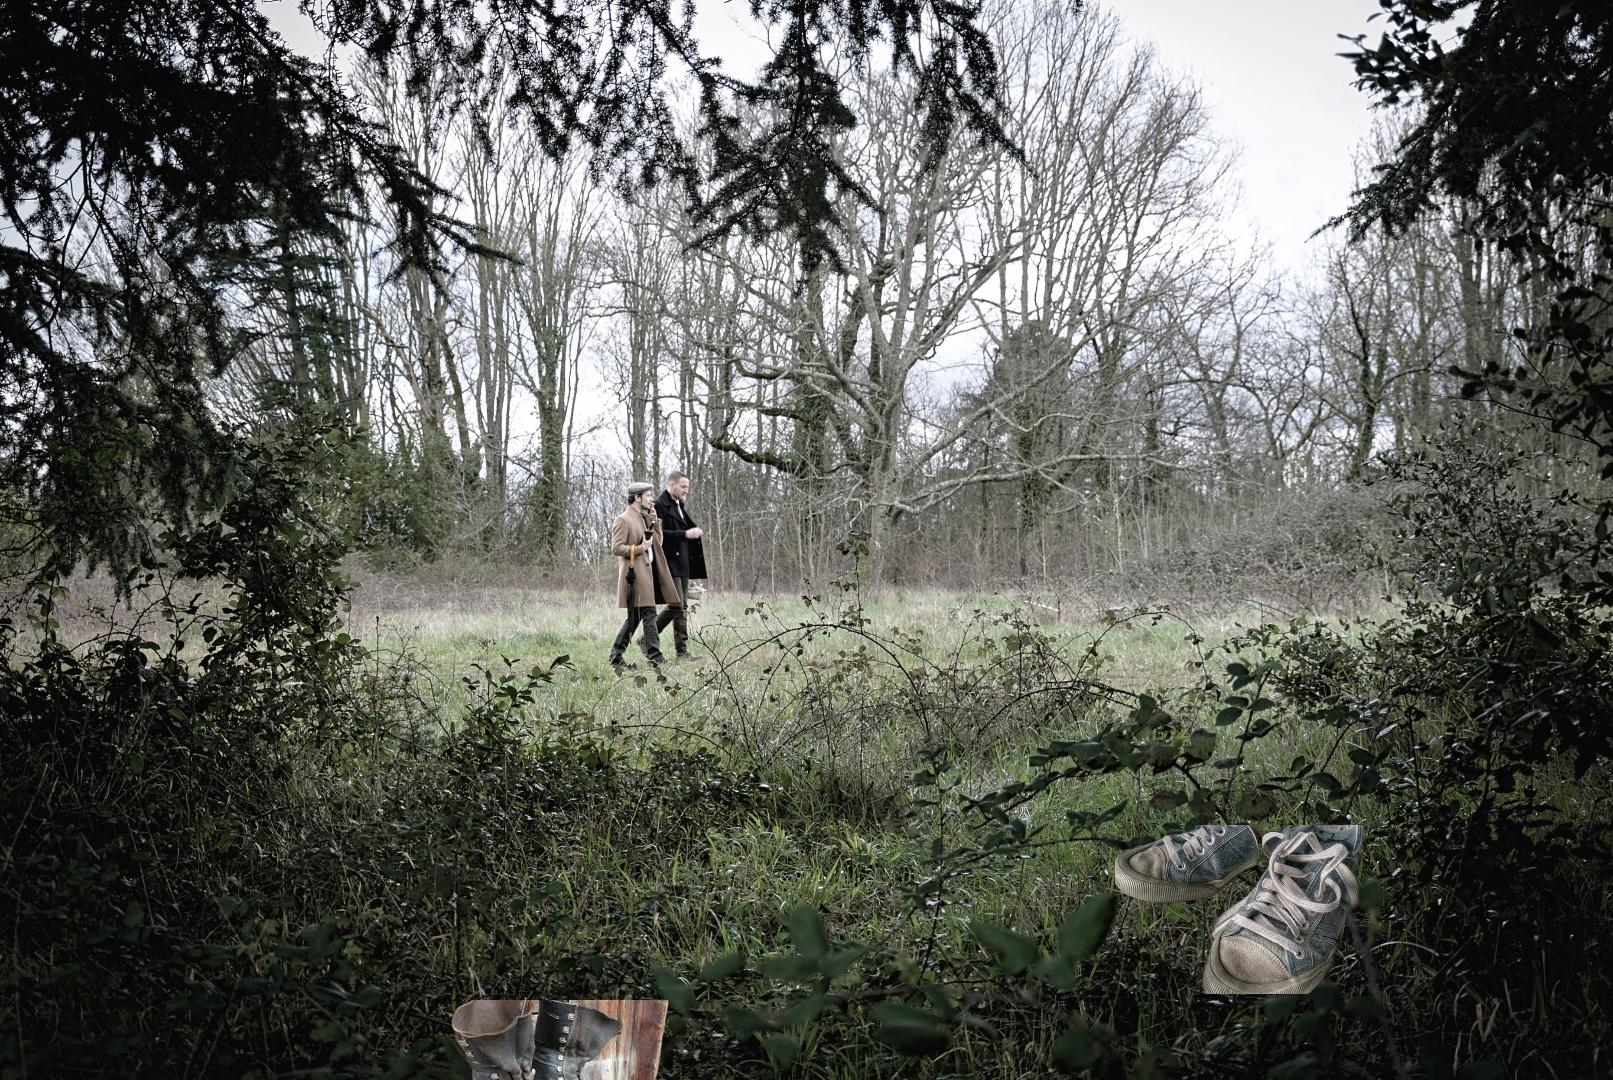shoes: (1115, 824, 1369, 994), (448, 1000, 671, 1080)
